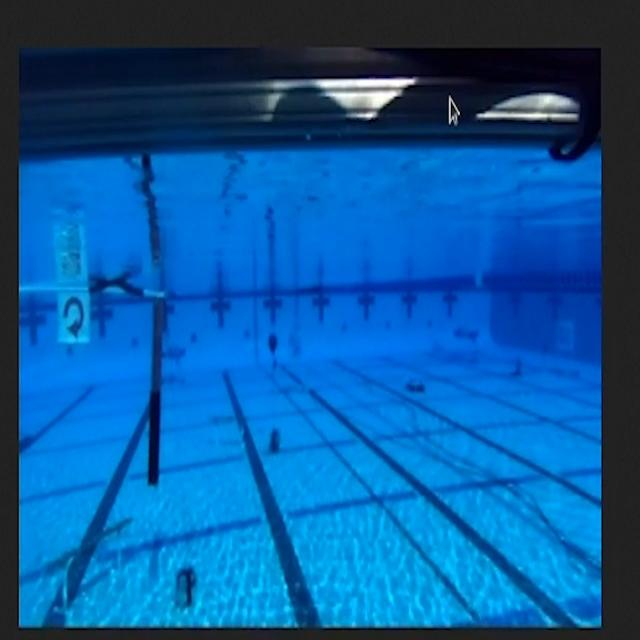Gate: (28, 272, 165, 486)
